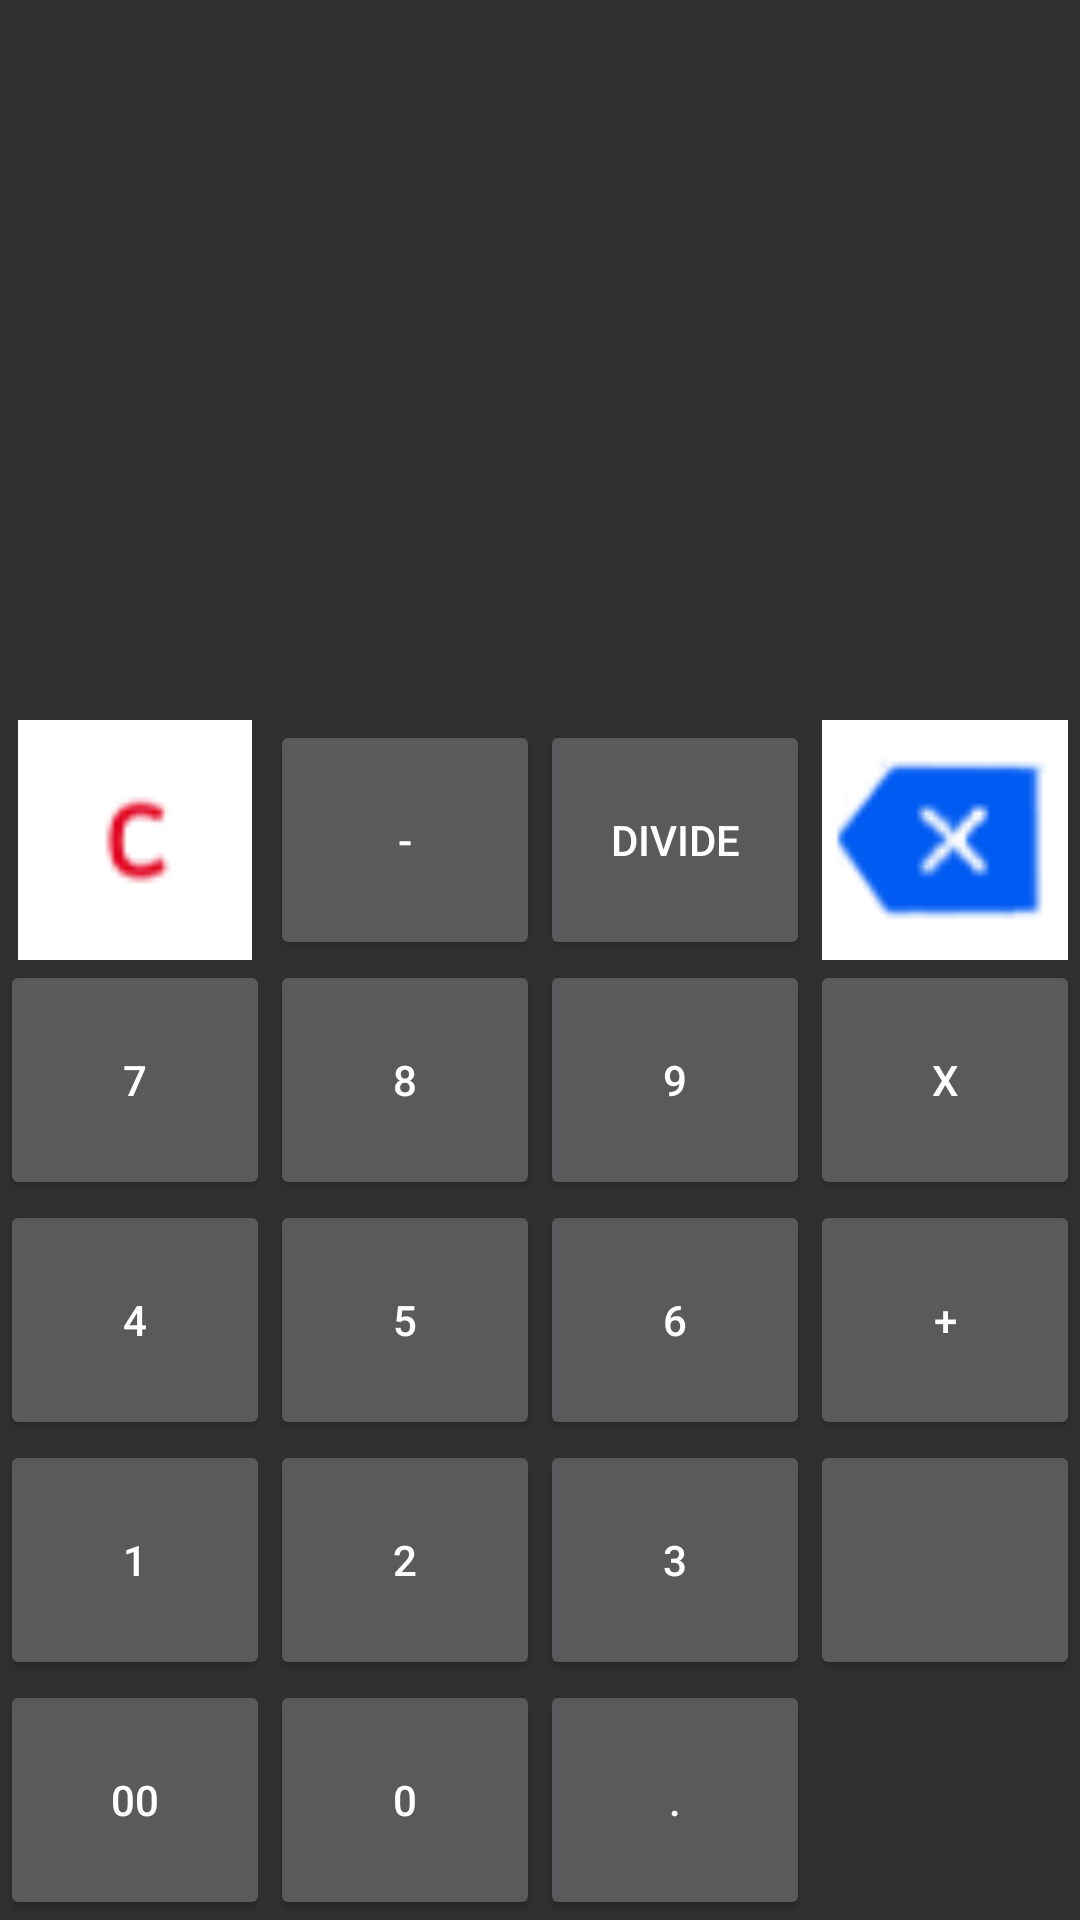

Locate icon controls on the screen. Image size 1080px x 1920px, boxes as box=[x1, y1, x2, y2].
backbutton: box=[822, 720, 1068, 960]
